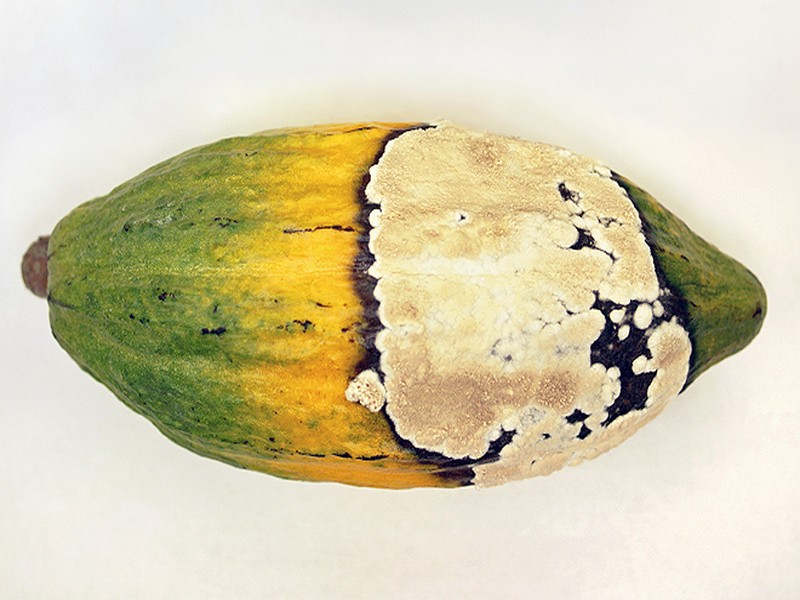Cacaopod: (15, 122, 767, 491)
